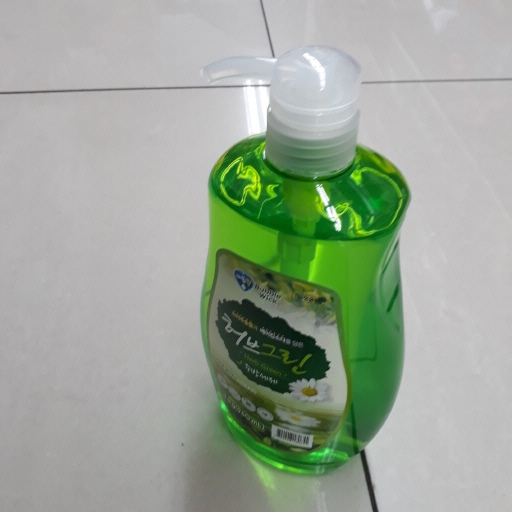Plastic_3: (198, 43, 405, 471)
